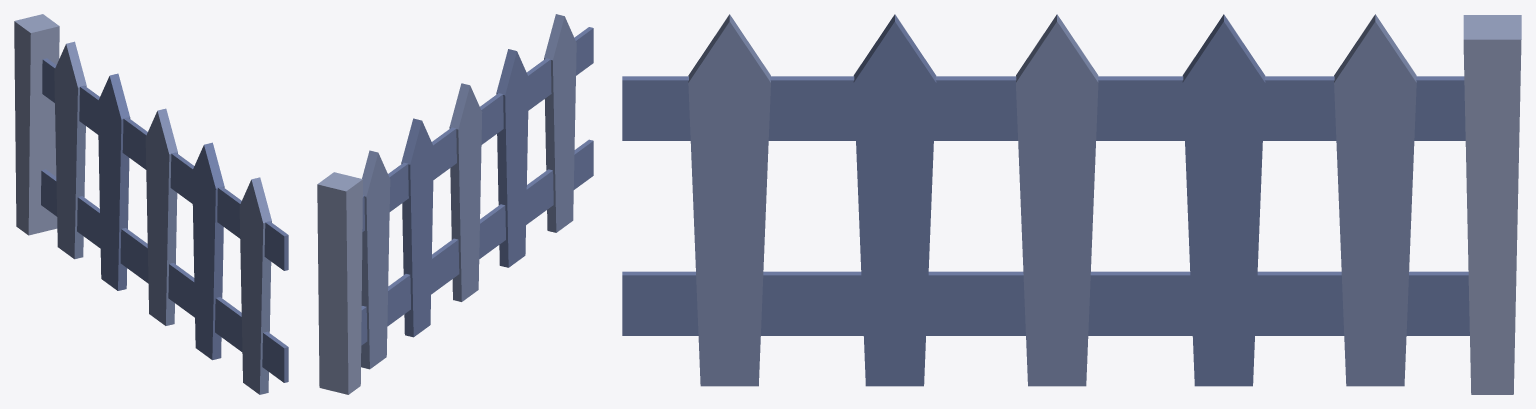
The model's file is SM_Fence_1.fbx.
3 views of the same model, side by side, from view 1: azimuth 30°, elevation 25°; view 2: azimuth 150°, elevation 25°; view 3: azimuth 270°, elevation 25° (orthographic). The views are drawn at different scales.
Parts seen in each view (by area): view 1: SM_Fence_1_LOD0; view 2: SM_Fence_1_LOD0; view 3: SM_Fence_1_LOD0.
Part boxes in pixels (x1=…): SM_Fence_1_LOD0: x1=14, y1=14, x2=288, y2=394; SM_Fence_1_LOD0: x1=317, y1=14, x2=593, y2=394; SM_Fence_1_LOD0: x1=622, y1=14, x2=1521, y2=394.
Bounding box in the file's own units: 20 × 310 × 139.
Materials: 1 (1 with a texture image).
